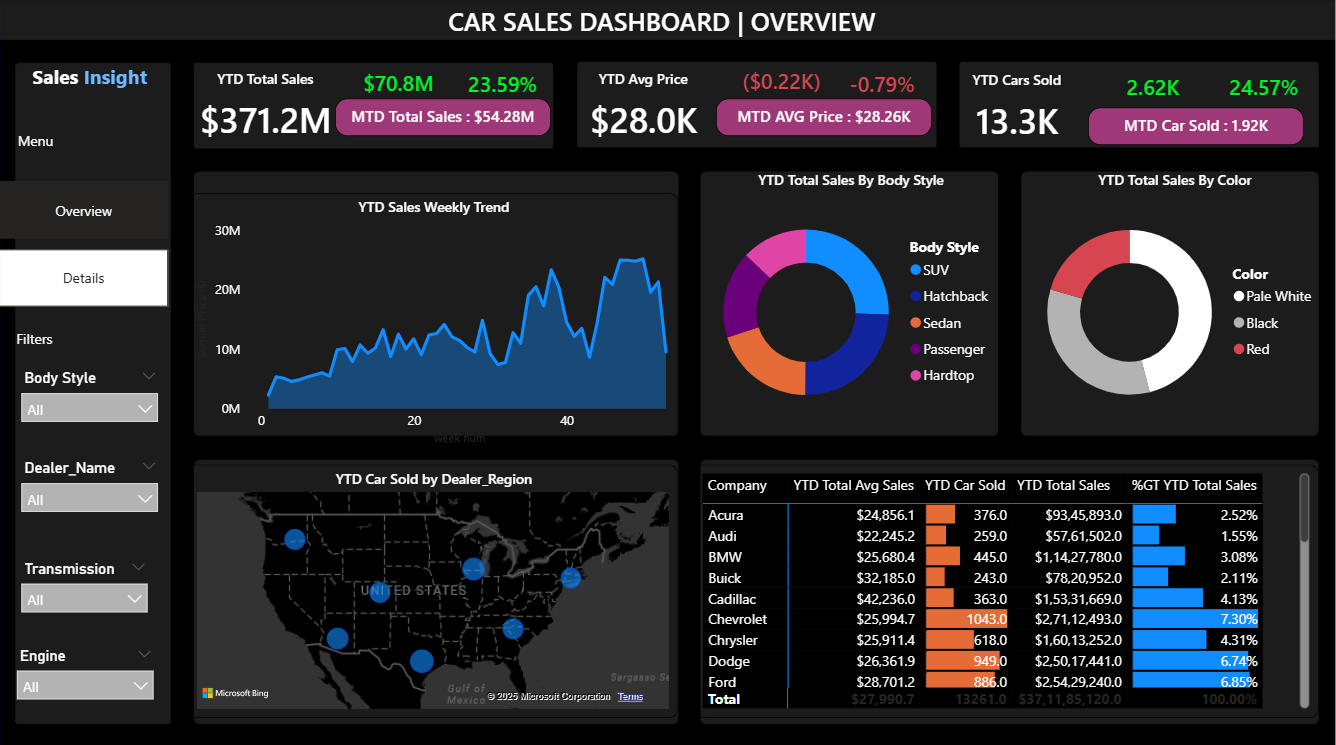

What the dashboard file says about the page in this screenshot:
{"tool":"powerbi","page":{"name":"Overview","canvas":[1280,720],"ordinal":0},"visuals":[{"type":"card","title":"YTD Total Sales","fields":{"Values":["car_data.YTD Total Sales"]},"box":[180.9,67.5,147.9,79],"z":0},{"type":"card","fields":{"Values":["car_data.Sales Difference"]},"box":[338.9,57.4,86.2,50.3],"z":1000},{"type":"card","fields":{"Values":["car_data.YOY Growth"]},"box":[440.9,53.1,81.9,61.8],"z":2000},{"type":"card","fields":{"Values":["car_data.MTD kpi"]},"box":[321.7,96.2,206.8,35.9],"z":3000},{"type":"card","title":"YTD Avg Price","fields":{"Values":["car_data.YTD Total Avg Sales"]},"box":[540,67.5,153.7,79],"z":4000},{"type":"card","fields":{"Values":["car_data.AVG Price Diff"]},"box":[700.8,53.1,96.2,54.6],"z":5000},{"type":"card","fields":{"Values":["car_data.YOY AVG Growth"]},"box":[797,50.3,96.2,67.5],"z":6000},{"type":"card","fields":{"Values":["car_data.MTD AVG KPI"]},"box":[686.4,96.2,206.8,35.9],"z":7000},{"type":"card","title":"YTD Cars Sold","fields":{"Values":["car_data.YTD Car Sold"]},"box":[904.7,68.9,139.3,79],"z":8000},{"type":"card","fields":{"Values":["car_data.Car Sold Difference"]},"box":[1062.7,50.3,83.3,71.8],"z":9000},{"type":"card","fields":{"Values":["car_data.YOY Car Sold Growth"]},"box":[1157.5,57.4,106.3,57.4],"z":10000},{"type":"card","fields":{"Values":["car_data.Mtd Car Sold Kpi"]},"box":[1042.6,104.8,206.8,35.9],"z":11000},{"type":"areaChart","title":"YTD Sales Weekly Trend","fields":{"Category":["calendar.week num"],"Y":["Sum(car_data.Price ($))"]},"box":[180.9,186.7,469.6,249.9],"z":12000},{"type":"donutChart","title":"YTD Total Sales By Body Style","fields":{"Y":["Sum(car_data.Price ($))"],"Category":["car_data.Body Style"]},"box":[664.9,160.8,300.1,262.8],"z":13000},{"type":"donutChart","title":"YTD Total Sales By Color","fields":{"Y":["Sum(car_data.Price ($))"],"Category":["car_data.Color"]},"box":[975.1,160.8,300.1,262.8],"z":14000},{"type":"map","fields":{"Size":["car_data.YTD Car Sold"],"Category":["car_data.Dealer_Region"]},"box":[180.9,446.6,469.6,242.7],"z":15000},{"type":"pivotTable","fields":{"Rows":["car_data.Company"],"Values":["car_data.YTD Total Avg Sales","car_data.YTD Car Sold","car_data.YTD Total Sales","Divide(car_data.YTD Total Sales, ScopedEval(car_data.YTD Total Sales, []))"]},"box":[664.9,446.6,598.8,242.7],"z":16000},{"type":"slicer","fields":{"Values":["car_data.Body Style"]},"box":[11.5,350.4,150.8,73.2],"z":17000},{"type":"slicer","fields":{"Values":["car_data.Dealer_Name"]},"box":[11.5,436.6,150.8,73.2],"z":18000},{"type":"slicer","fields":{"Values":["car_data.Transmission"]},"box":[11.5,532.8,140.7,71.8],"z":19000},{"type":"slicer","fields":{"Values":["car_data.Engine"]},"box":[7.2,616.1,150.8,73.2],"z":20000},{"type":"textbox","box":[11.5,311.6,48.8,28.7],"z":21000},{"type":"textbox","box":[425.1,0,420.8,50.3],"z":22000},{"type":"textbox","box":[11.5,57.4,150.8,47.4],"z":23000},{"type":"textbox","box":[12.9,122.1,122.1,38.8],"z":24000},{"type":"pageNavigator","box":[0,174.8,162.9,121],"z":25000}]}

Visuals, with their boxes in screenshot pixels (x1, y1, x2, y2), scaled from the page's 1280x720 canvas onto the 1336x745 screenshot:
"YTD Total Sales" card: box(189, 70, 343, 152)
card - car_data.Sales Difference: box(354, 59, 444, 111)
card - car_data.YOY Growth: box(460, 55, 546, 119)
card - car_data.MTD kpi: box(336, 100, 552, 137)
"YTD Avg Price" card: box(564, 70, 724, 152)
card - car_data.AVG Price Diff: box(731, 55, 832, 111)
card - car_data.YOY AVG Growth: box(832, 52, 932, 122)
card - car_data.MTD AVG KPI: box(716, 100, 932, 137)
"YTD Cars Sold" card: box(944, 71, 1090, 153)
card - car_data.Car Sold Difference: box(1109, 52, 1196, 126)
card - car_data.YOY Car Sold Growth: box(1208, 59, 1319, 119)
card - car_data.Mtd Car Sold Kpi: box(1088, 108, 1304, 146)
"YTD Sales Weekly Trend" areaChart: box(189, 193, 679, 452)
"YTD Total Sales By Body Style" donutChart: box(694, 166, 1007, 438)
"YTD Total Sales By Color" donutChart: box(1018, 166, 1331, 438)
map - car_data.YTD Car Sold x car_data.Dealer_Region: box(189, 462, 679, 713)
pivotTable - car_data.Company x car_data.YTD Total Avg Sales: box(694, 462, 1319, 713)
slicer - car_data.Body Style: box(12, 363, 169, 438)
slicer - car_data.Dealer_Name: box(12, 452, 169, 528)
slicer - car_data.Transmission: box(12, 551, 159, 626)
slicer - car_data.Engine: box(8, 637, 165, 713)
textbox: box(12, 322, 63, 352)
textbox: box(444, 0, 883, 52)
textbox: box(12, 59, 169, 108)
textbox: box(13, 126, 141, 166)
pageNavigator: box(0, 181, 170, 306)
